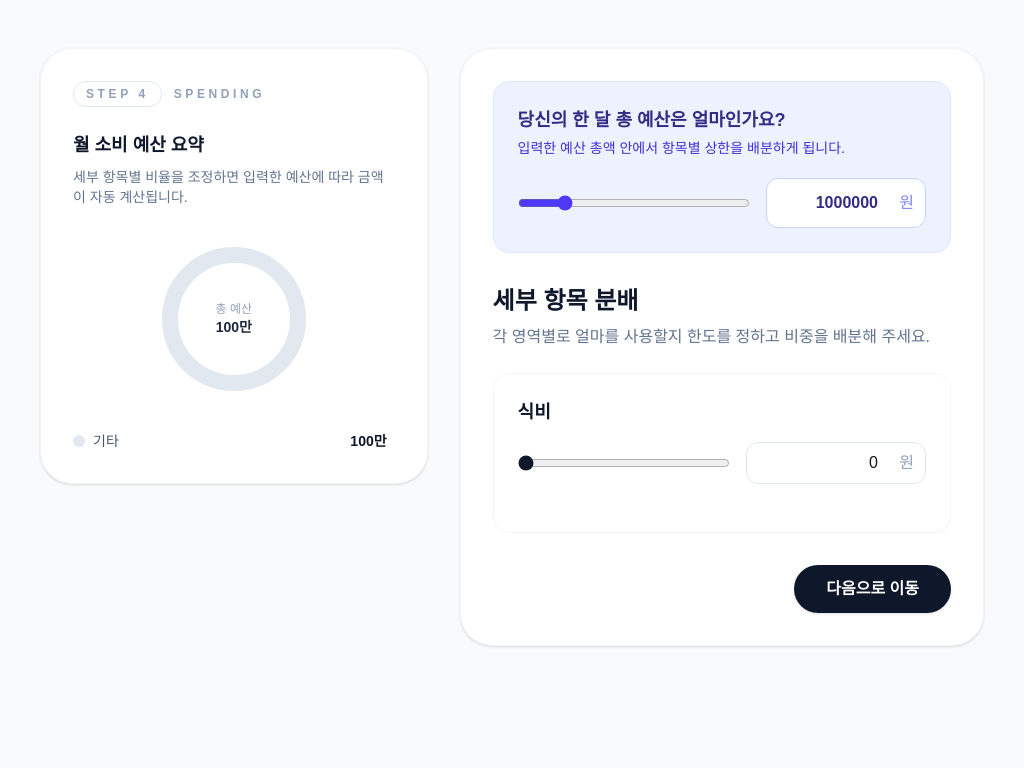
Test: Spending input flow › 슬라이더 변경 시 숫자 입력이 동기화된다
The image size is (1024, 768).
Step 1. Set the slider named "식비 슬라이더" to "300000" → x=585, y=463, box 518,442 -> 730,484
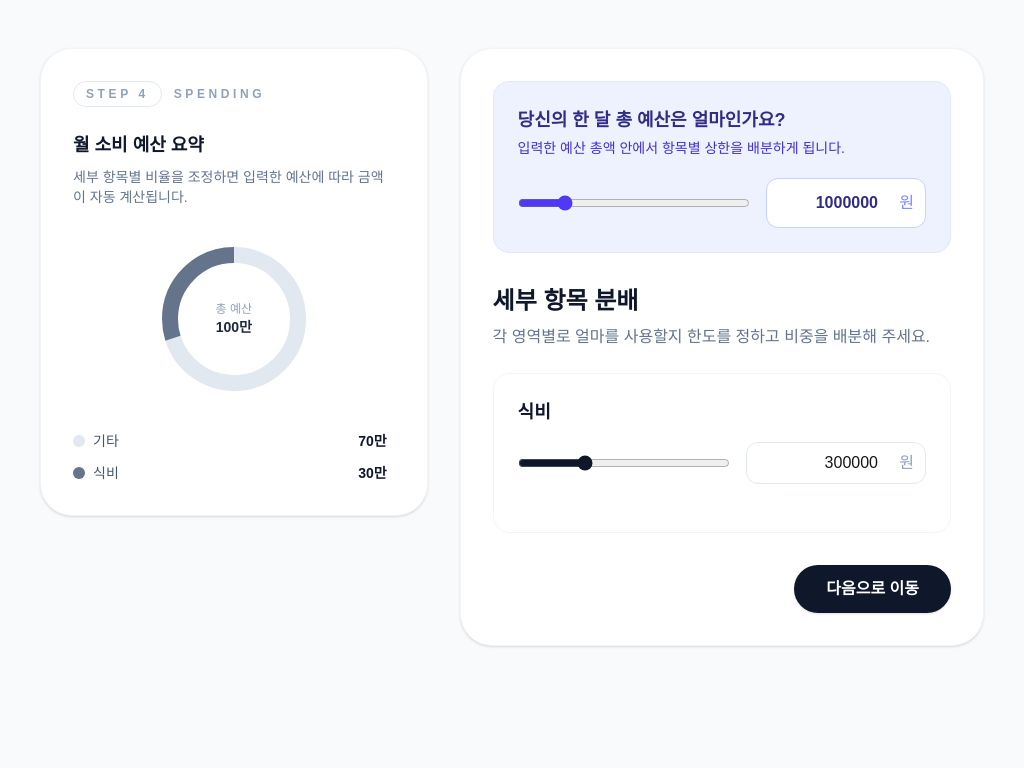
Expected: the number field named "식비 금액" holds "300000", 746,442 -> 926,484
